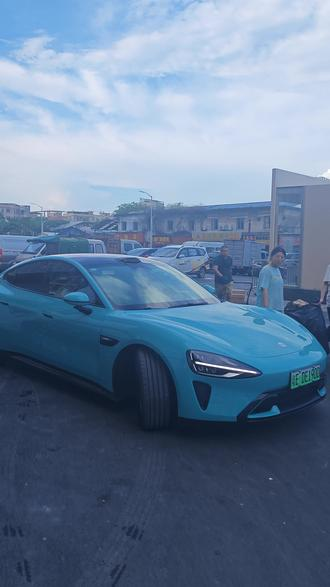su7: (3, 253, 328, 436)
